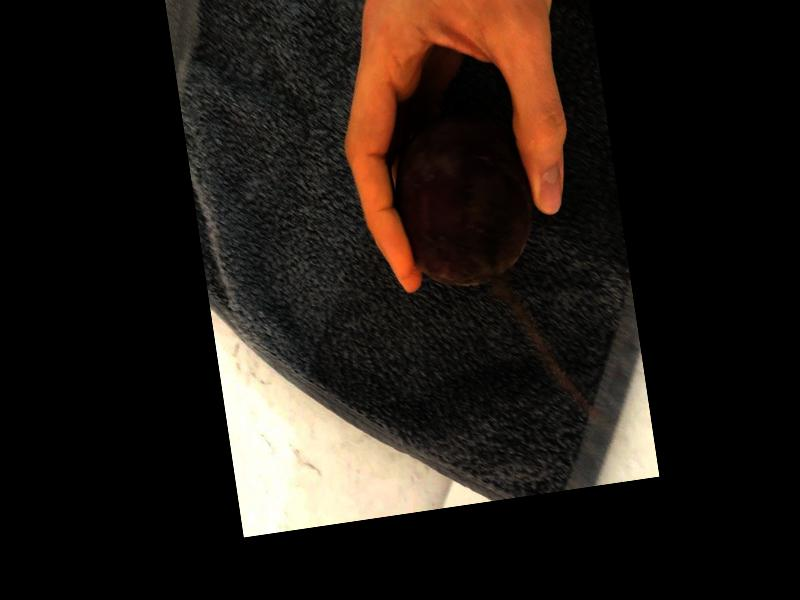Beet: (385, 104, 543, 293)
